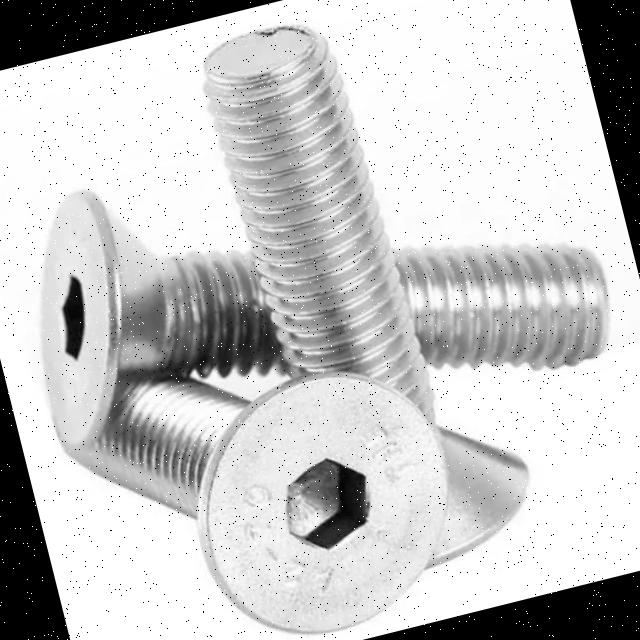Hex Socket Allen: (168, 348, 477, 640), (2, 182, 152, 452)
